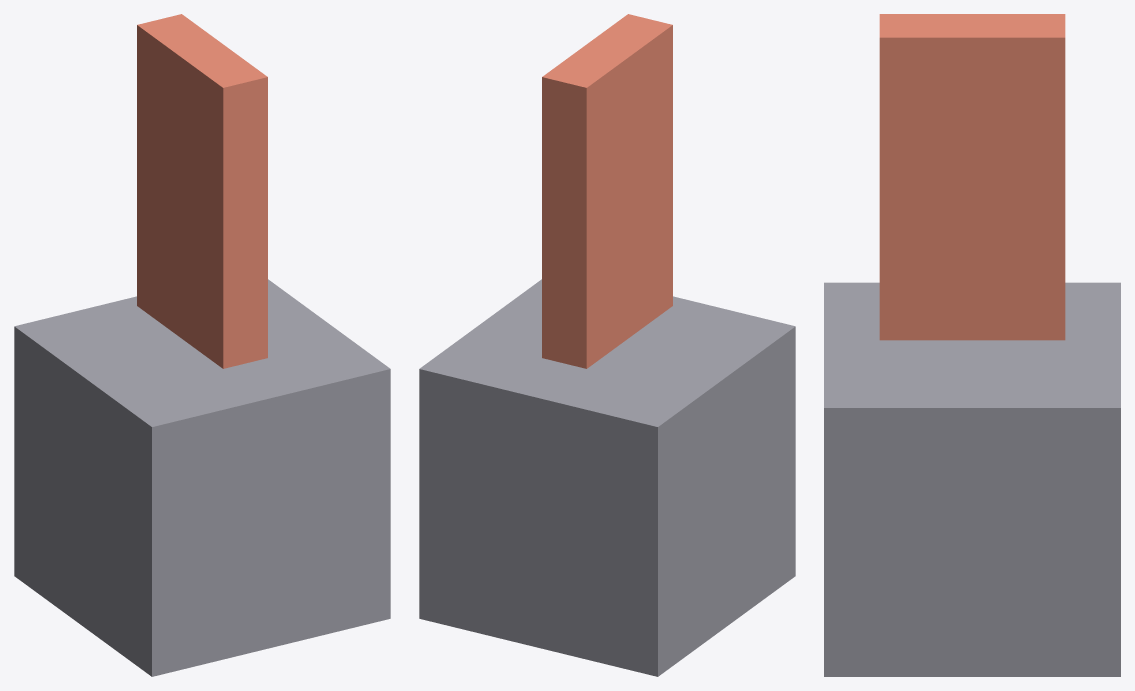
File: sample-valve.glb
3 renders of one model, left to right at view 1: azimuth 30°, elevation 25°; view 2: azimuth 150°, elevation 25°; view 3: azimuth 270°, elevation 25°, orthographic. The views are drawn at different scales.
Parts seen in each view (by area): view 1: body, campo_gate; view 2: body, campo_gate; view 3: body, campo_gate.
Boxes of the visible parts, x1,y1,x2,y2 form: body: (14,279,390,676); campo_gate: (137,14,267,368); body: (419,279,795,676); campo_gate: (542,14,672,368); body: (824,282,1120,676); campo_gate: (879,14,1065,340).
Size of the model in its own units: 0.8 by 1.75 by 0.8.
